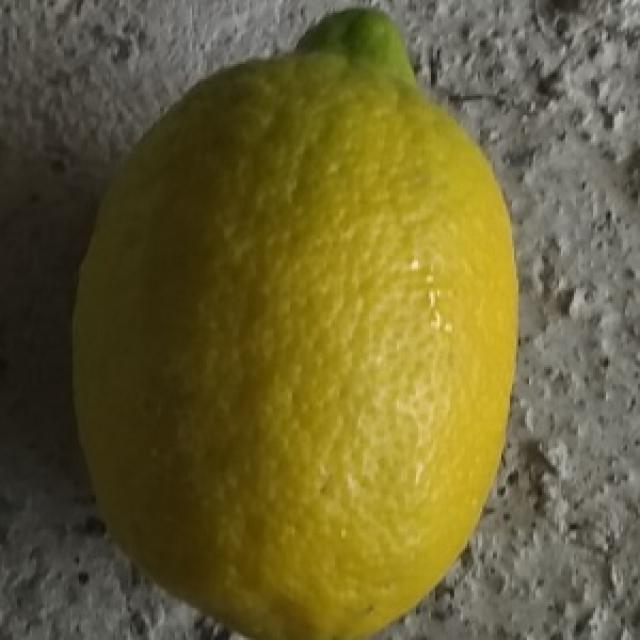Lemon: (66, 6, 521, 640)
